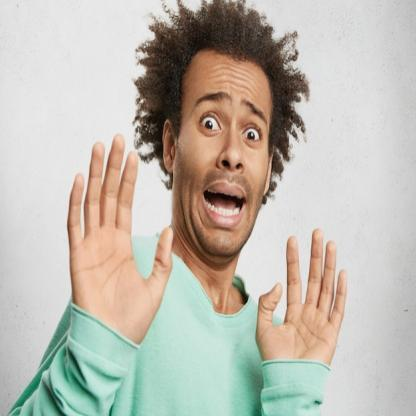stop: (62, 128, 176, 358), (249, 226, 351, 388)
